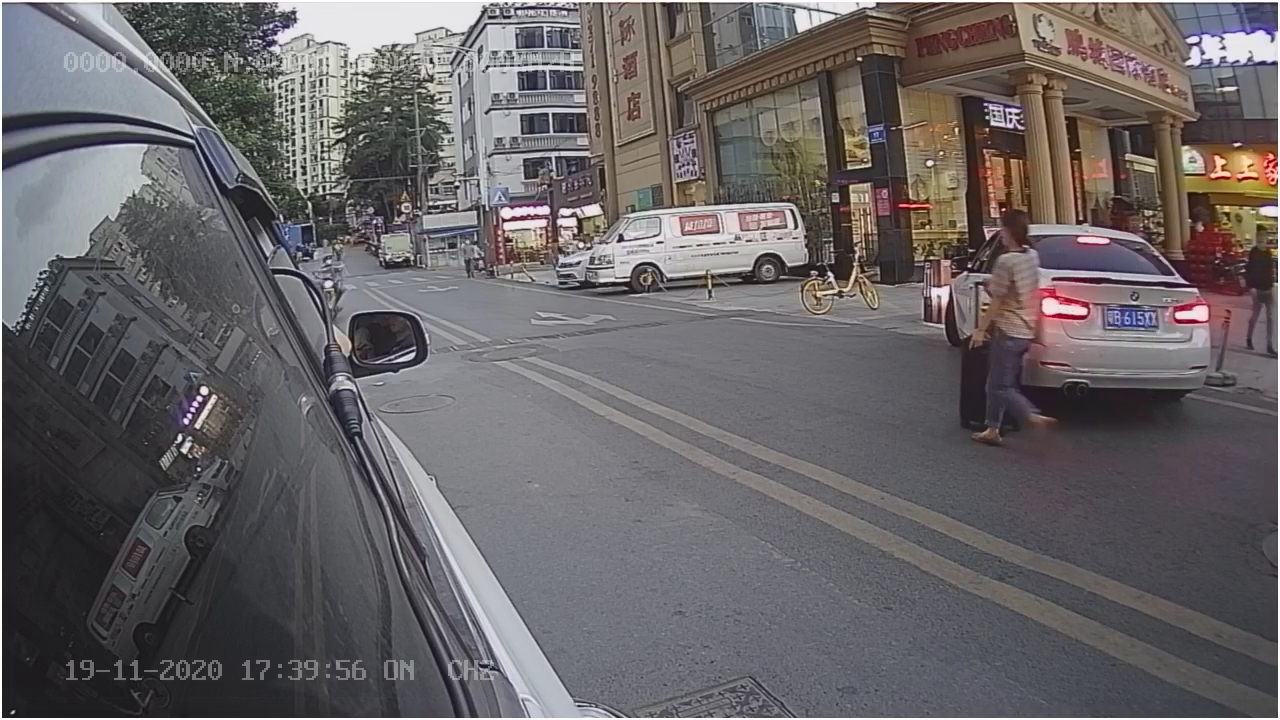person: (968, 209, 1063, 457)
